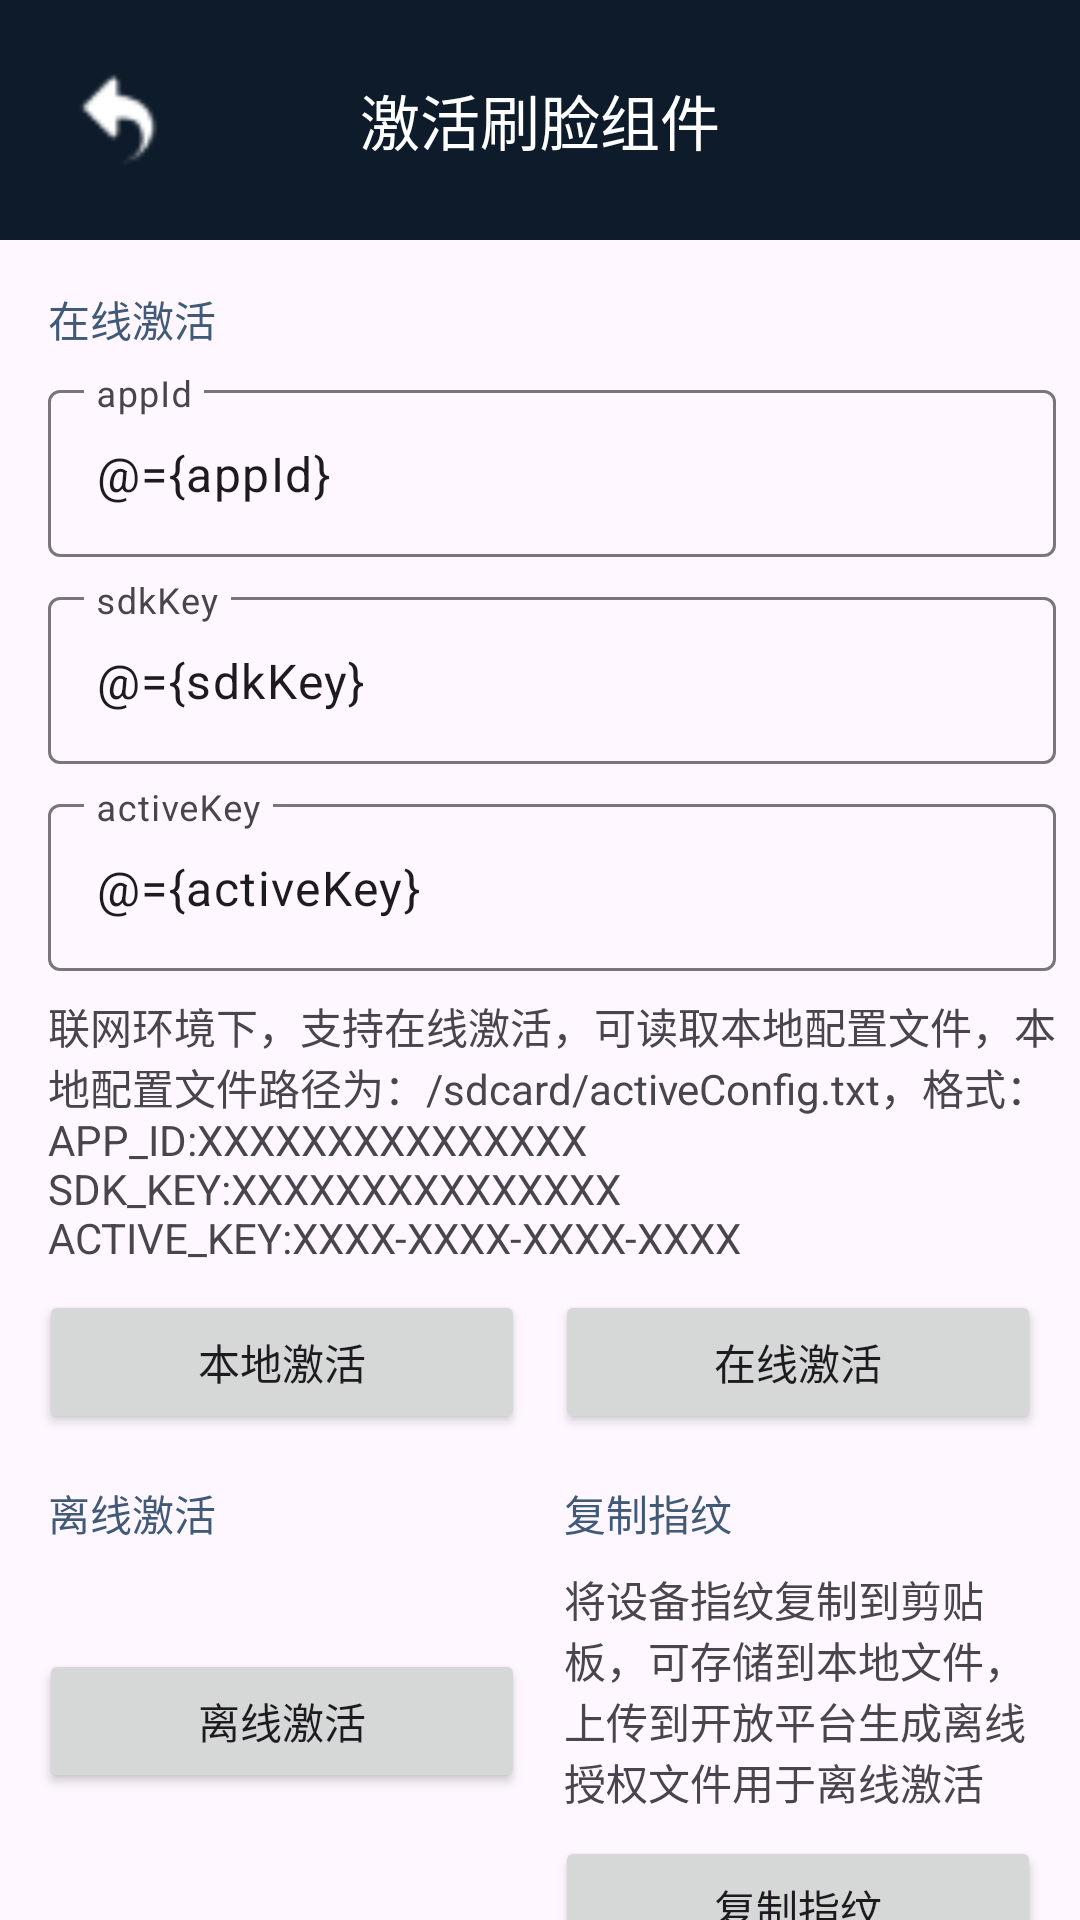

Icons on this 1080w x 1920h Android screen, each with the point to tap as point (x, y):
返回: point (119, 117)
